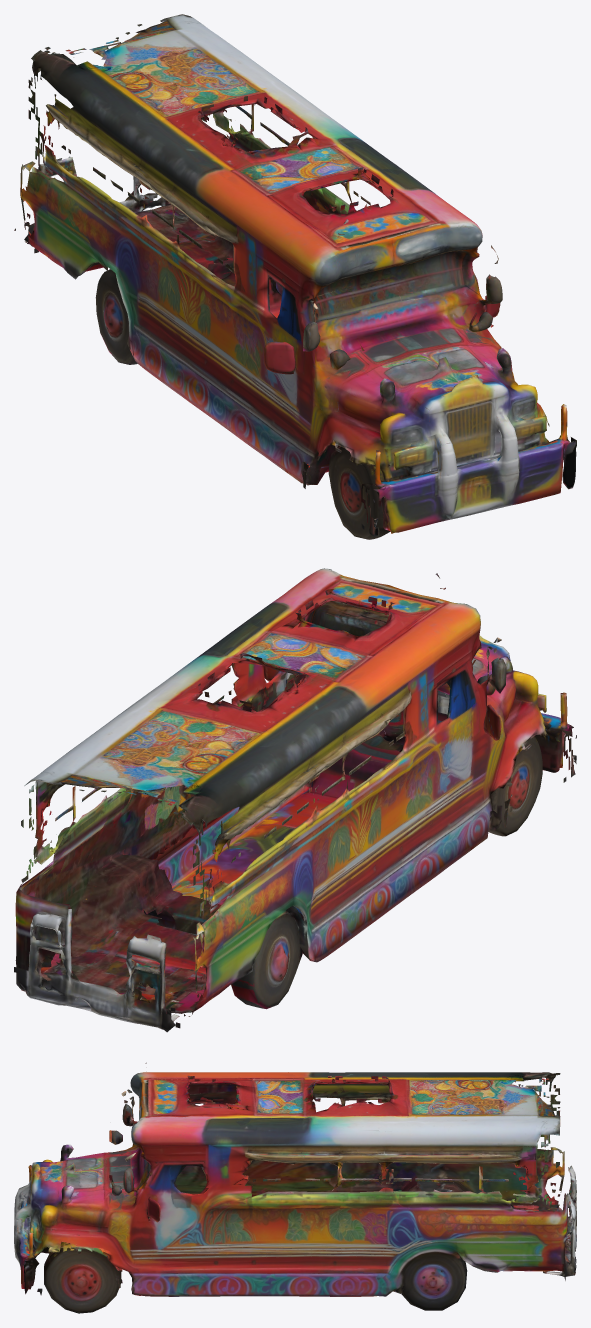
File: jeepColor.glb
3 renders of one model, top to bottom at view 1: azimuth 30°, elevation 25°; view 2: azimuth 150°, elevation 25°; view 3: azimuth 270°, elevation 25°, orthographic. The views are drawn at different scales.
Size of the model in its own units: 0.7184 by 0.8096 by 2.
Materials: 1 (1 with a texture image).
